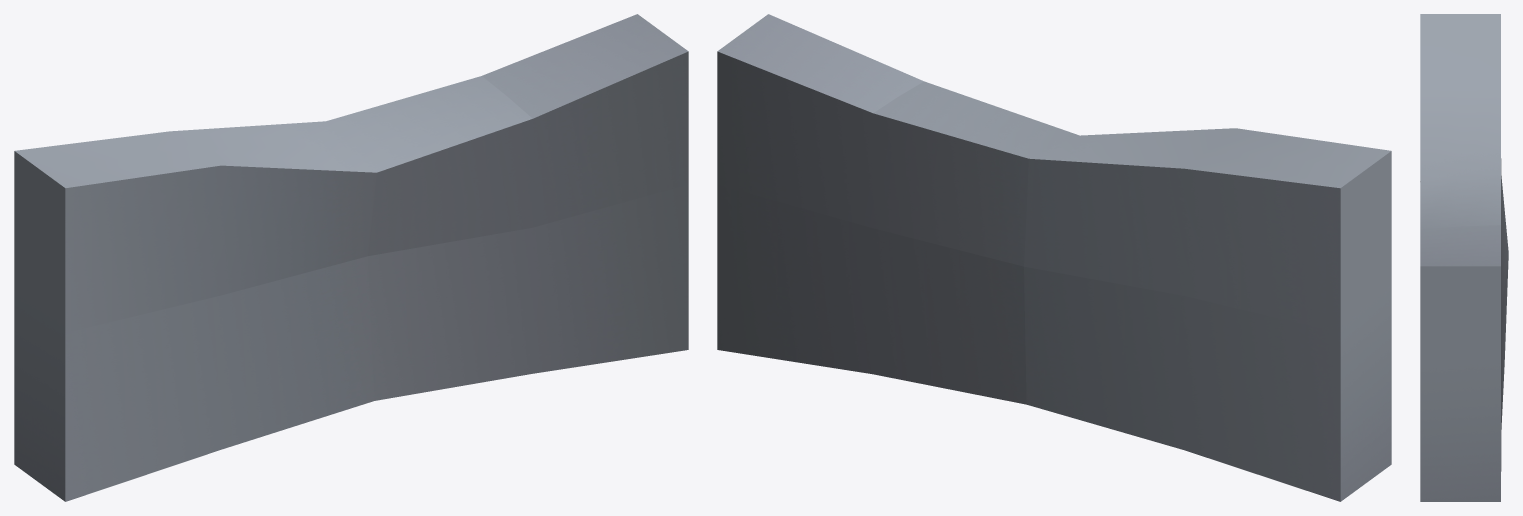
The model's file is Wall_Segement5.fbx.
The picture shows the model from 3 angles, left to right: view 1: azimuth 30°, elevation 25°; view 2: azimuth 150°, elevation 25°; view 3: azimuth 270°, elevation 25°; orthographic projection. The views are drawn at different scales.
Visible parts, largest first — view 1: Wall_Segement5; view 2: Wall_Segement5; view 3: Wall_Segement5.
Part boxes in pixels (x1,y1,x2,y2): Wall_Segement5: [14, 14, 688, 501]; Wall_Segement5: [717, 14, 1391, 501]; Wall_Segement5: [1420, 14, 1508, 501].
Bounding box in the file's own units: 1.79 × 0.8601 × 0.2786.
1 material, 1 textured.
